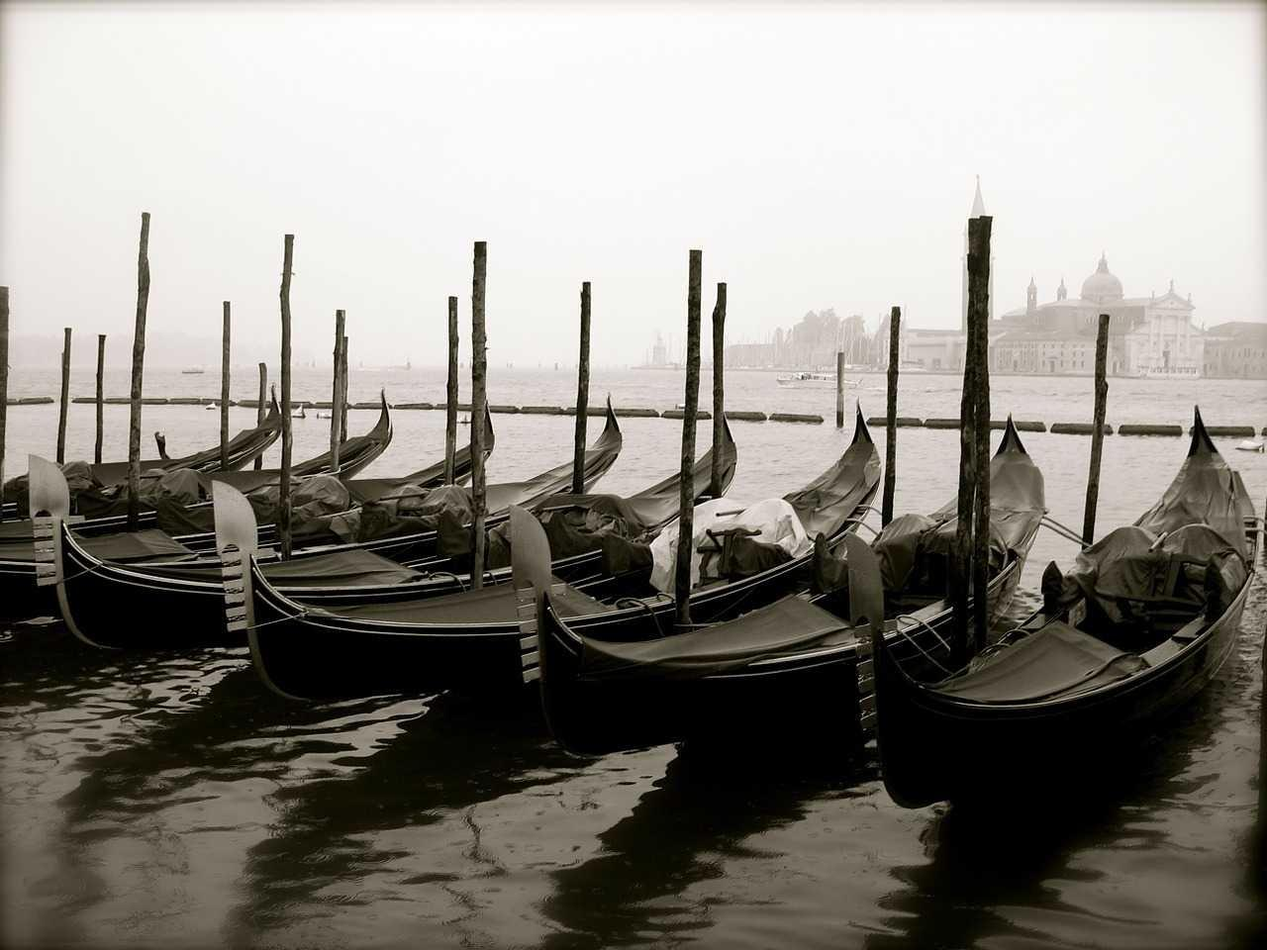kayak: (874, 396, 1258, 785), (232, 396, 622, 708), (515, 388, 885, 702), (812, 172, 1049, 647), (0, 416, 285, 615), (237, 387, 394, 479), (1235, 427, 1266, 453)
